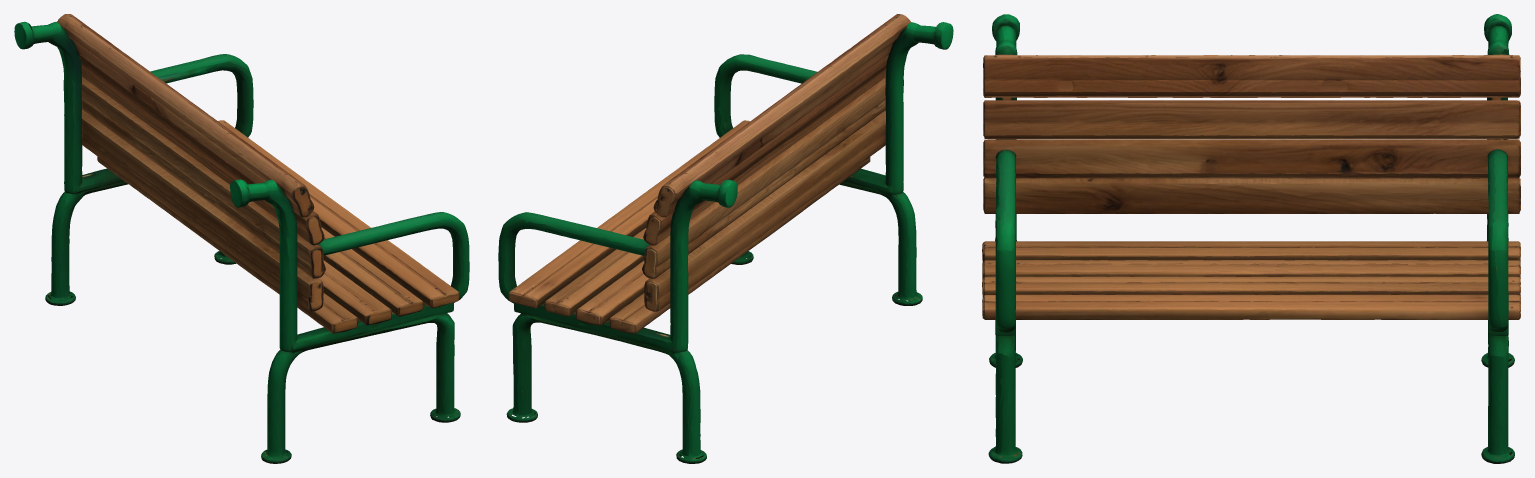
The picture shows the model from 3 angles, left to right: view 1: azimuth 30°, elevation 25°; view 2: azimuth 150°, elevation 25°; view 3: azimuth 270°, elevation 25°; orthographic projection. The views are drawn at different scales.
Parts seen in each view (by area): view 1: world; view 2: world; view 3: world.
Part boxes in pixels (x1,y1,x2,y2): world: (14,14,469,463); world: (498,14,953,463); world: (982,14,1520,463).
Bounding box in the file's own units: 0.5672 × 0.6712 × 1.
1 material, 1 textured.
